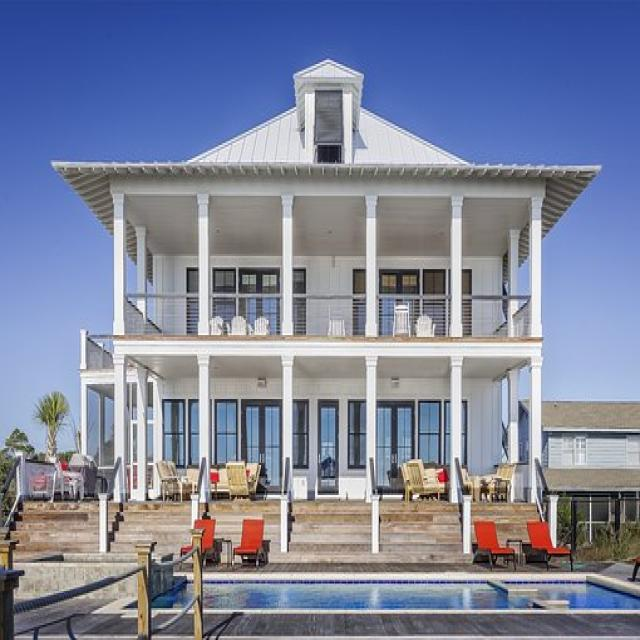building: (50, 48, 599, 545)
